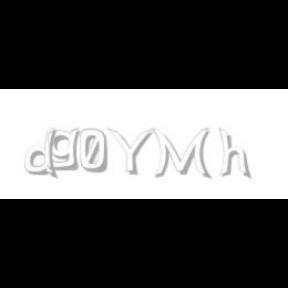0: (79, 128, 110, 174)
M: (152, 128, 210, 180)
Y: (107, 128, 153, 176)
d: (24, 128, 62, 180)
g: (46, 128, 84, 171)
h: (218, 128, 253, 180)
